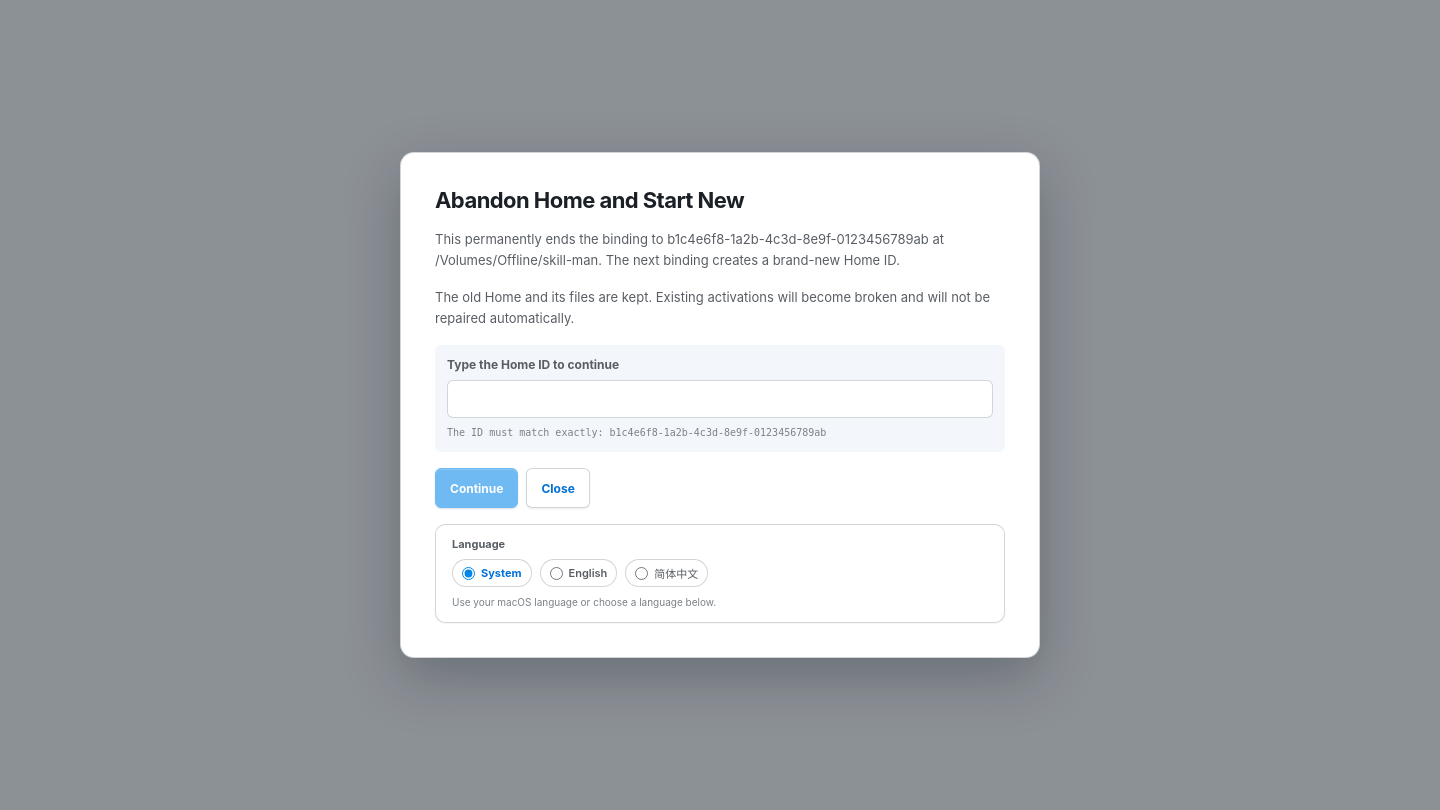
Test: a CAS race failure keeps the dialog open with the typed error
Type "b1c4e6f8-1a2b-4c3d-8e9f-0123456789ab" into the field labelled "Type the Home ID to continue".
click(720, 399); type("b1c4e6f8-1a2b-4c3d-8e9f-0123456789ab")  # box [447,380,993,418]
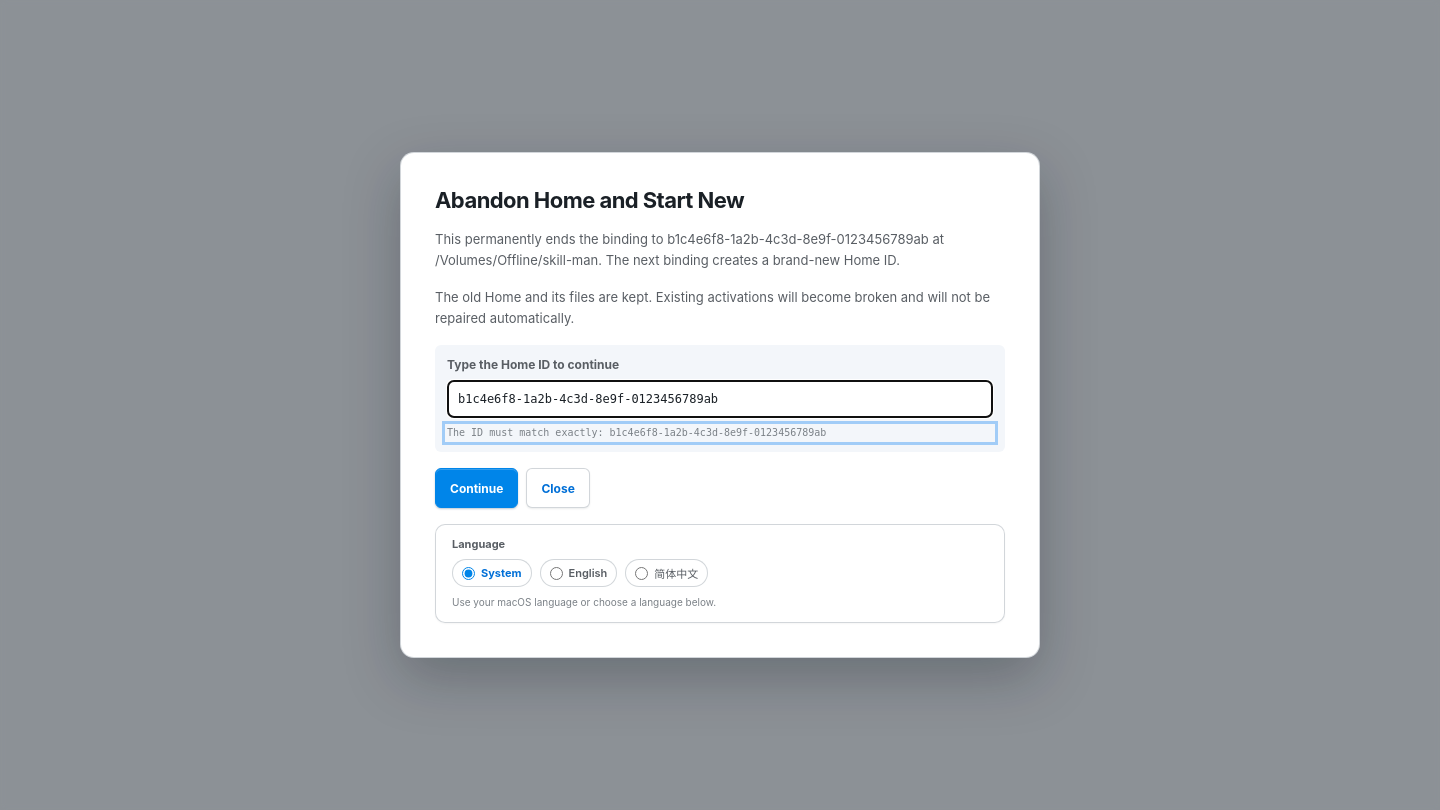
Click the button "Continue".
click(477, 488)  # box [435,468,518,508]
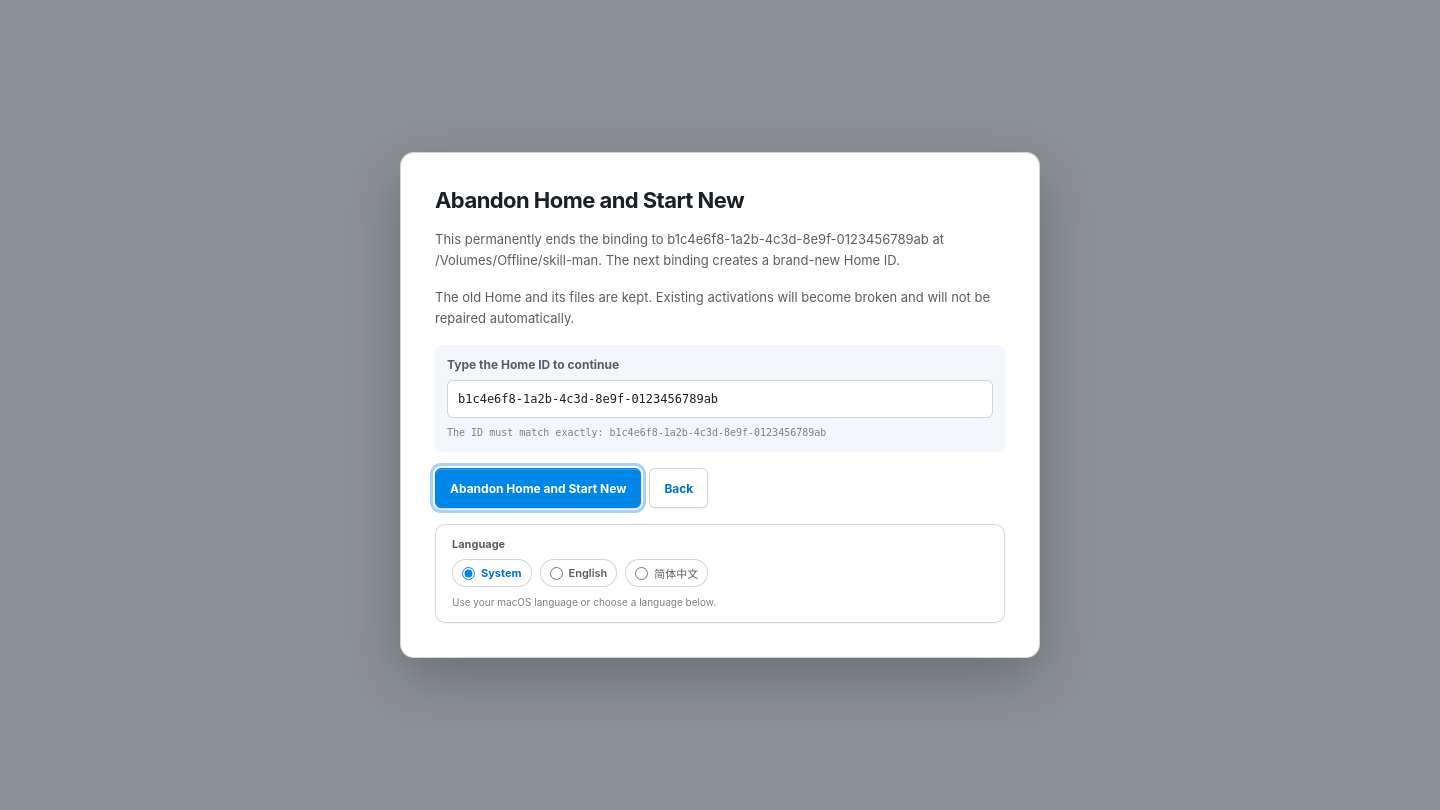
Click the button "Abandon Home and Start New".
click(538, 488)  # box [435,468,641,508]
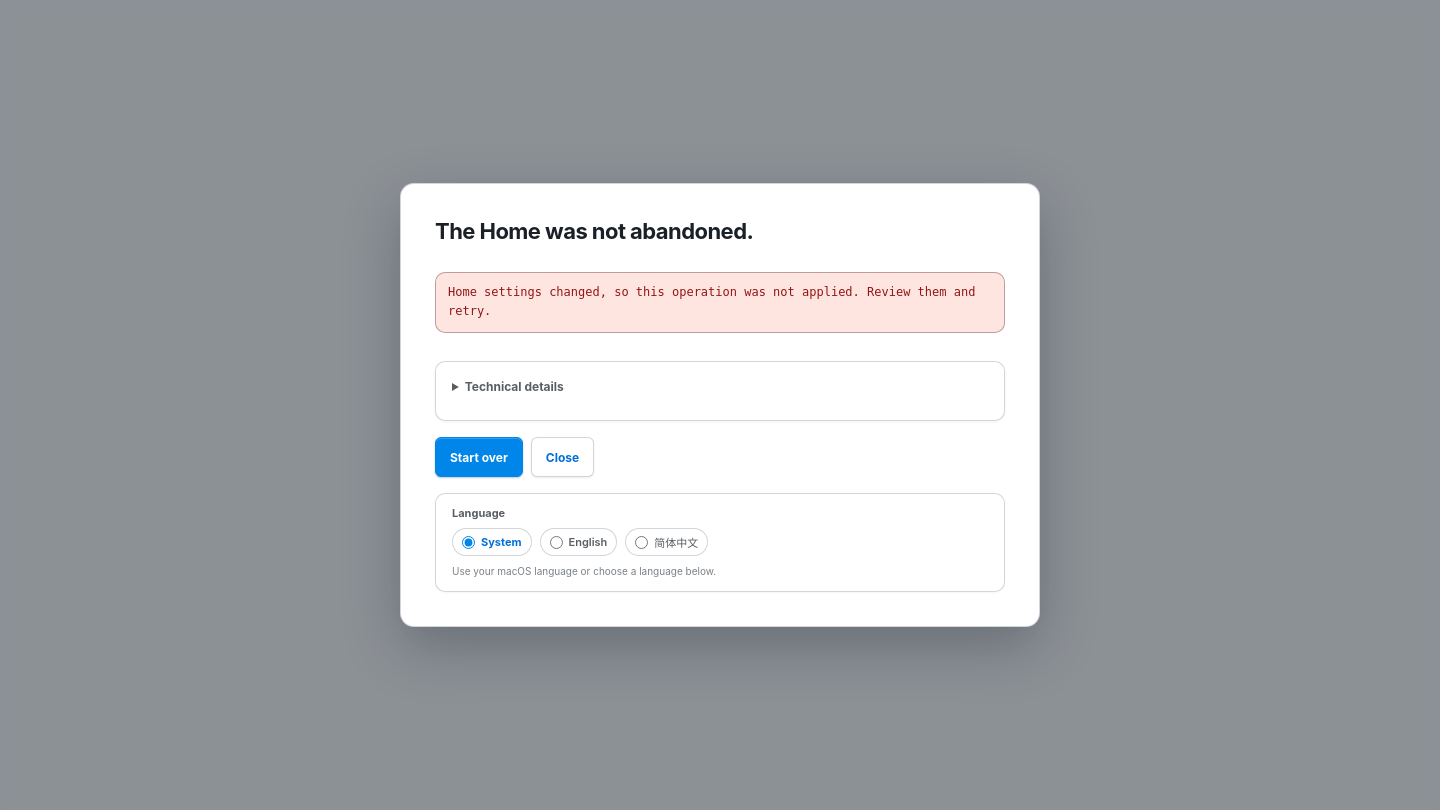
Expected: the message shows "Home settings changed", [448,285,983,318]
Start over re-plans the Abandon.
Click the button "Start over".
click(479, 457)  # box [435,437,523,477]
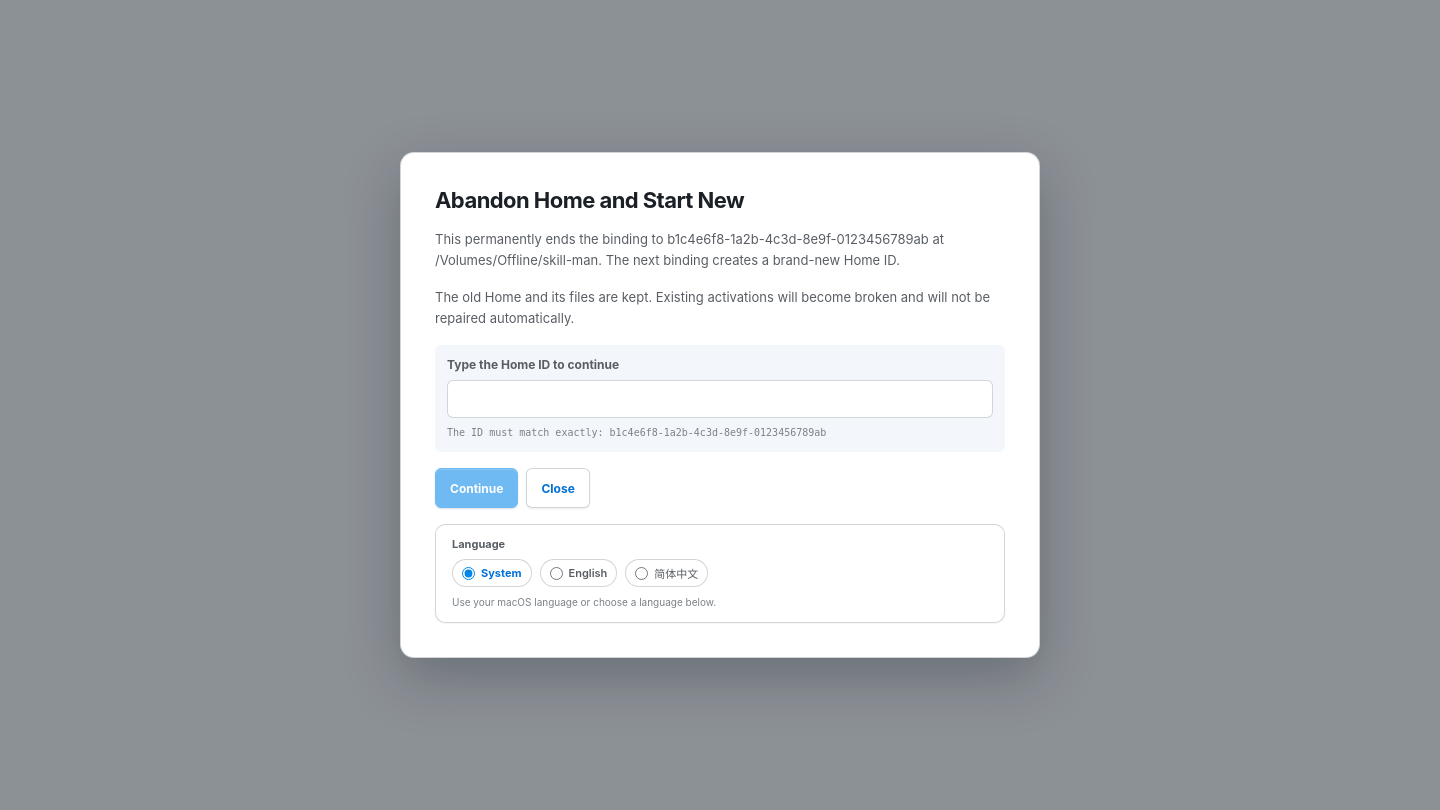
Expected: the field labelled "Type the Home ID to continue" is shown, [447,380,993,418]
